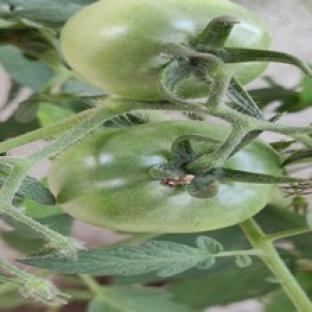Tomato: (48, 122, 274, 232)
